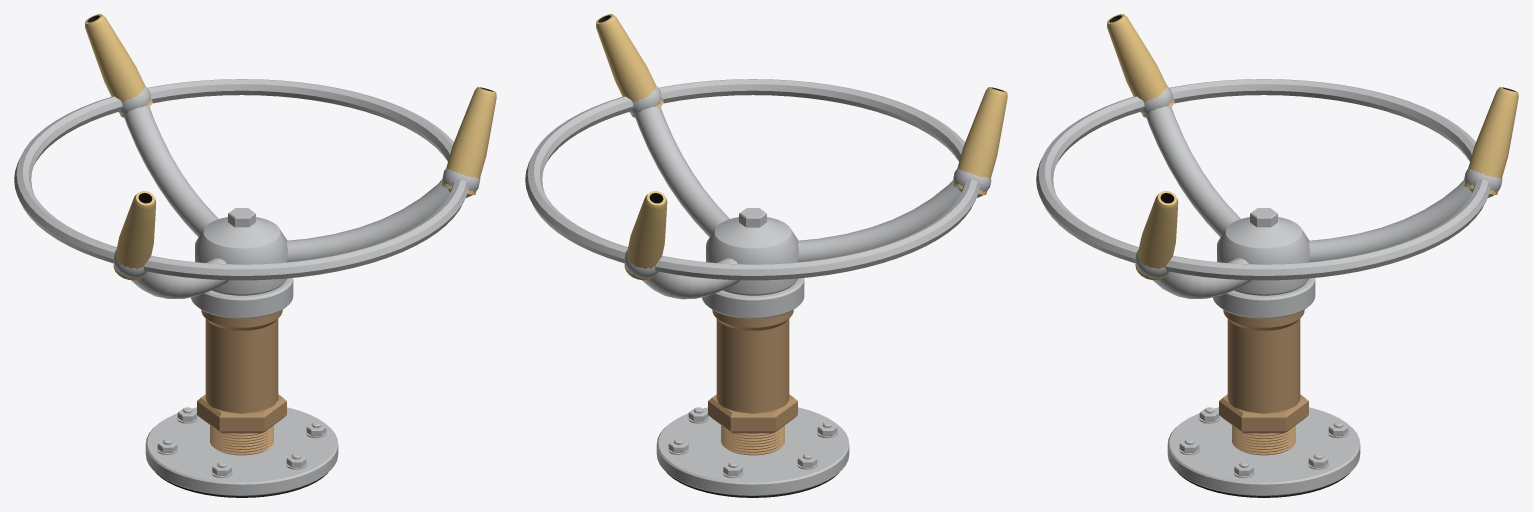
The model's file is nozzle_b_3outlet.glb.
3 views of the same model, side by side, from view 1: azimuth 30°, elevation 25°; view 2: azimuth 150°, elevation 25°; view 3: azimuth 270°, elevation 25° (orthographic).
Visible parts, largest first — view 1: Rotor_Z, Basket_Base; view 2: Rotor_Z, Basket_Base; view 3: Rotor_Z, Basket_Base.
Part boxes in pixels (bbox=[...]): Rotor_Z: bbox=[14, 14, 496, 298]; Basket_Base: bbox=[145, 278, 338, 497]; Rotor_Z: bbox=[525, 14, 1007, 299]; Basket_Base: bbox=[656, 278, 849, 497]; Rotor_Z: bbox=[1036, 14, 1518, 299]; Basket_Base: bbox=[1167, 278, 1360, 497].
Size of the model in its own units: 0.4336 by 0.3717 by 0.4513.
